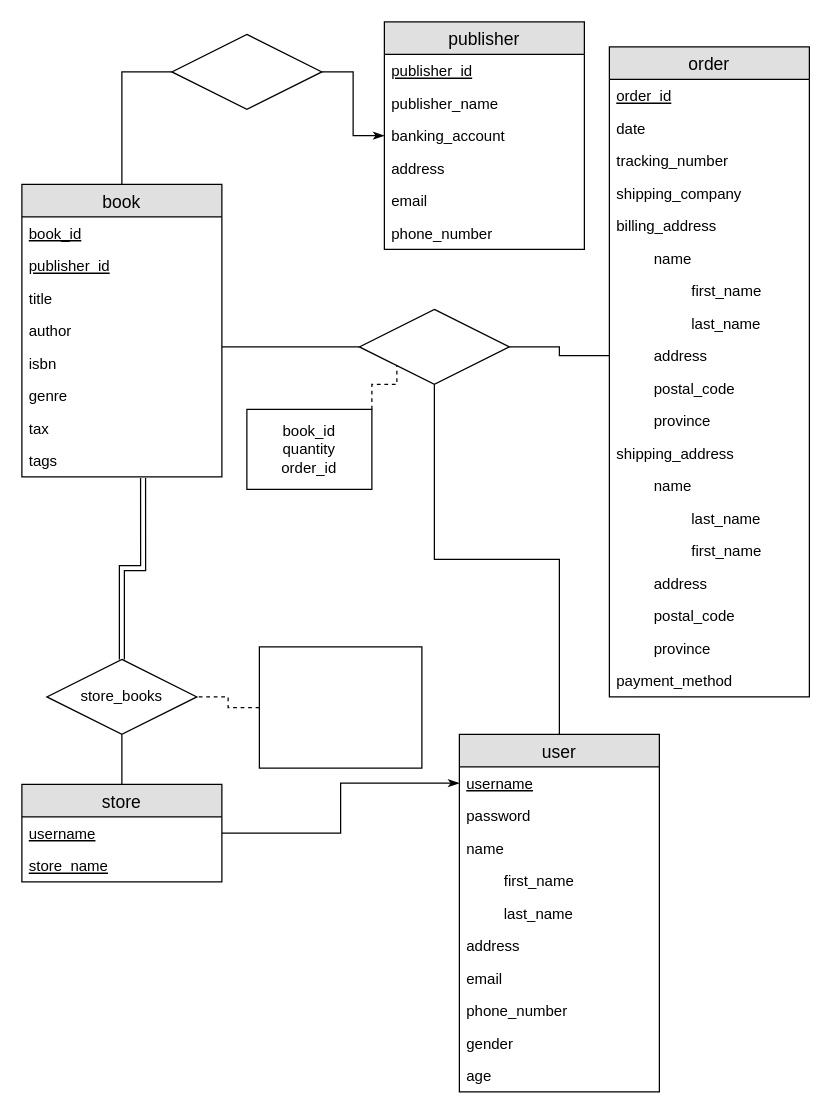
Image size: 831x1118. Some labels were removed from this diagram. The shapes that lost their labels are listed below. From the top down, each one's box as (x1, y1, x2, y2) in pixels, then its label:
(171, 33, 322, 109): published
(358, 308, 509, 384): ordered
(258, 646, 422, 768): final_price wholesale_price warning_quantity quantity
